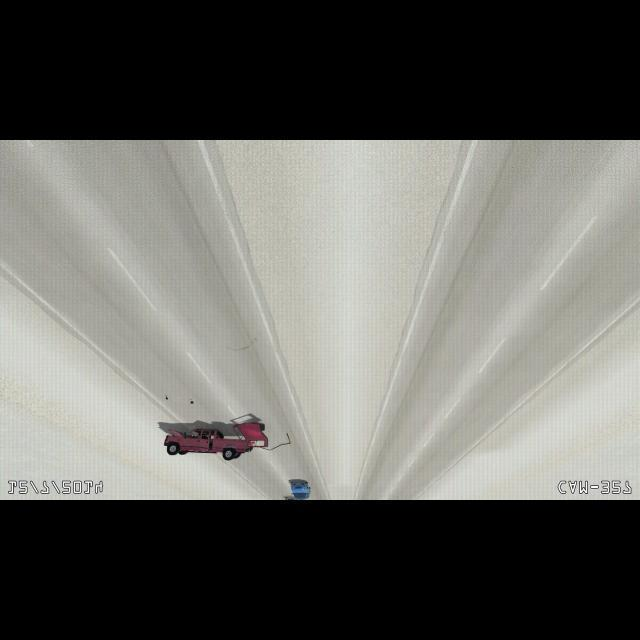severe: (162, 418, 272, 462)
